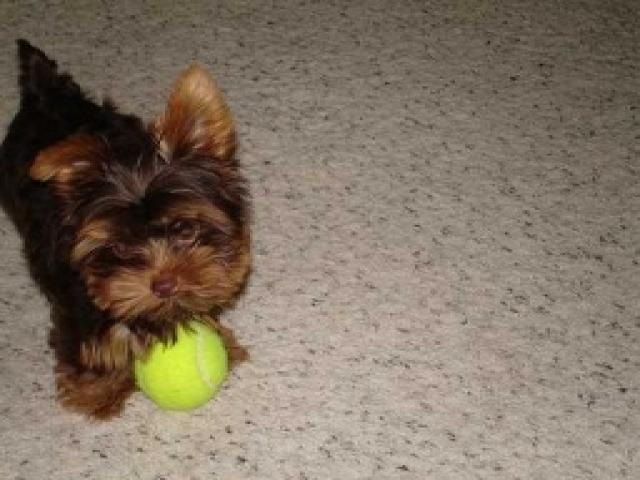tennis-ball: (136, 319, 232, 414)
